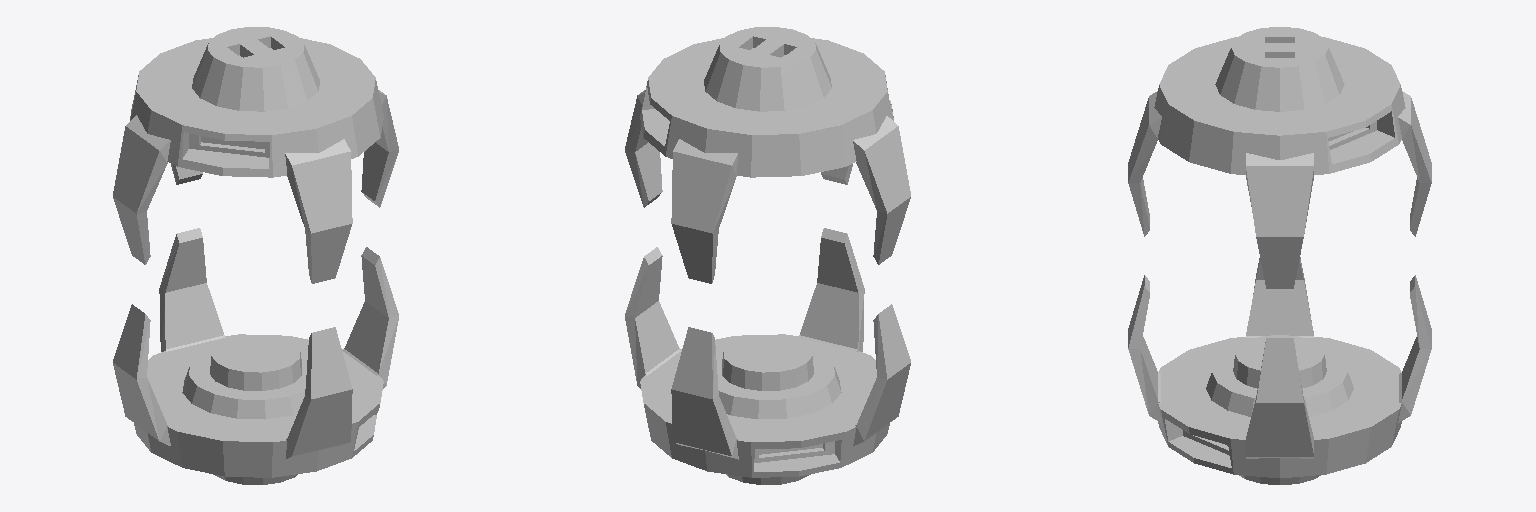
The model's file is Core_V_Main.obj.
The picture shows the model from 3 angles: view 1: azimuth 30°, elevation 25°; view 2: azimuth 150°, elevation 25°; view 3: azimuth 270°, elevation 25°; orthographic projection.
Parts seen in each view (by area): view 1: Core_V_Core_V_Mesh.010; view 2: Core_V_Core_V_Mesh.010; view 3: Core_V_Core_V_Mesh.010.
Part boxes in pixels (bbox=[...]): Core_V_Core_V_Mesh.010: bbox=[113, 27, 398, 484]; Core_V_Core_V_Mesh.010: bbox=[625, 27, 910, 484]; Core_V_Core_V_Mesh.010: bbox=[1128, 27, 1431, 484].
Size of the model in its own units: 0.5328 by 0.8085 by 0.5328.